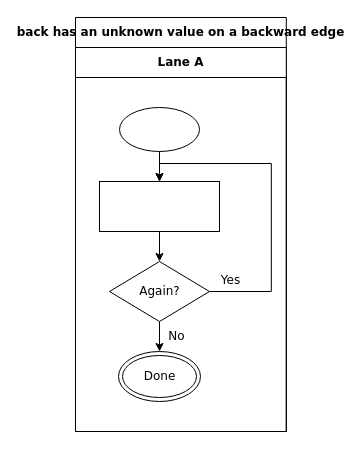
This 362x449 diagram has some shape labels left out. The centre of each missing label's shape, as x and y in pixels:
"Enter" goes at (159,129).
"Try" goes at (159,206).
